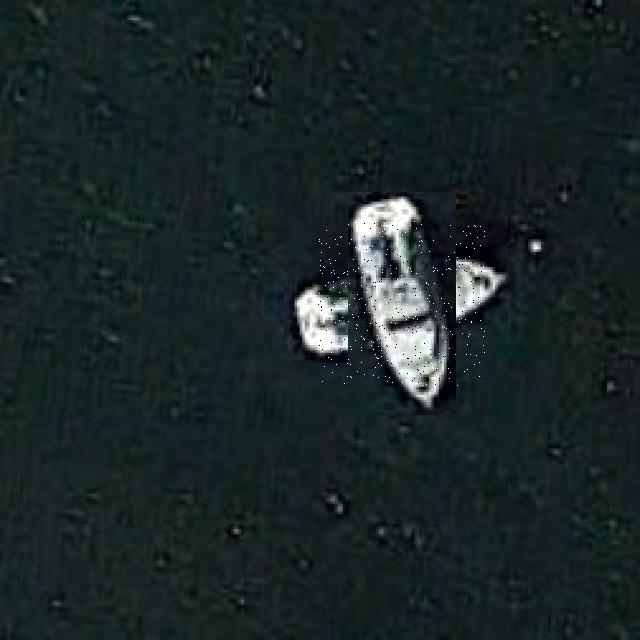boat: (318, 221, 485, 386)
